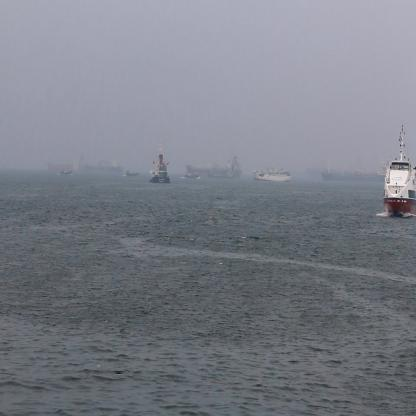Container Ship: (320, 157, 388, 183), (185, 153, 242, 176), (150, 140, 170, 184), (78, 156, 126, 171), (252, 166, 291, 182), (45, 160, 74, 170)
